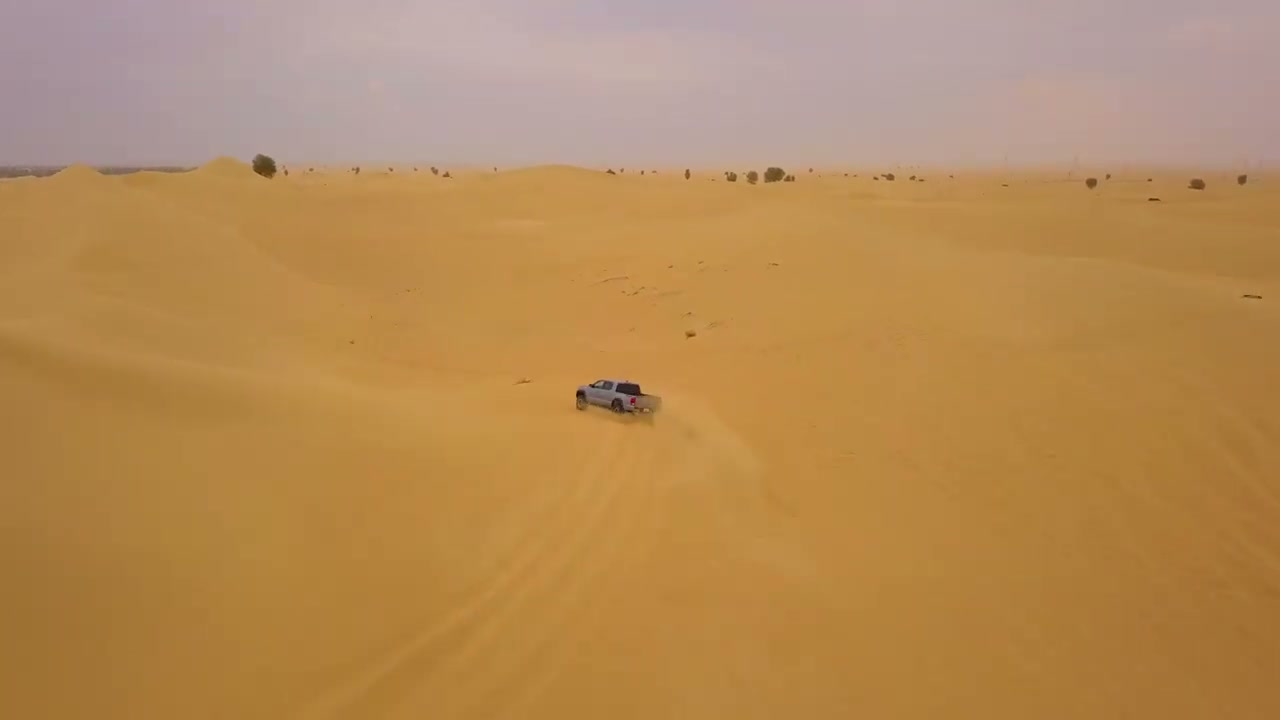vehicle_track: (326, 438, 644, 719)
